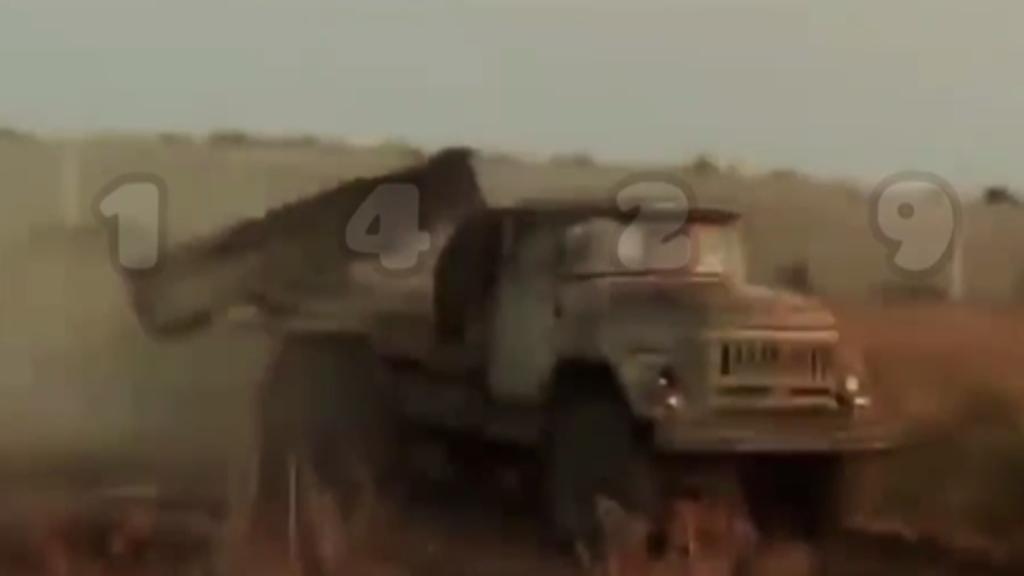MLRS: (106, 134, 902, 543)
